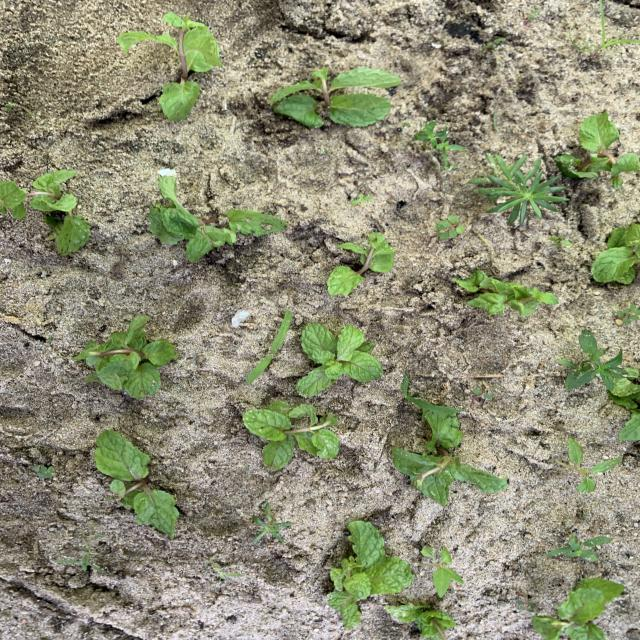crop: (393, 393, 506, 504), (147, 177, 287, 262), (118, 14, 220, 119), (328, 521, 413, 626), (96, 431, 179, 537), (75, 317, 177, 398), (0, 170, 91, 253), (270, 68, 399, 126), (244, 401, 339, 469), (556, 113, 639, 187), (298, 324, 382, 395), (532, 579, 623, 639), (454, 270, 557, 315), (328, 233, 394, 295), (592, 224, 639, 283), (386, 604, 455, 639), (611, 368, 640, 442)
weed: (470, 154, 564, 223), (558, 332, 623, 391), (555, 437, 623, 491), (248, 311, 291, 383), (421, 546, 463, 598), (415, 122, 462, 162), (548, 533, 610, 560), (254, 504, 293, 543), (54, 550, 101, 571), (204, 555, 243, 579), (437, 215, 464, 238), (615, 304, 639, 323), (483, 38, 506, 51), (517, 598, 536, 611), (33, 466, 55, 477), (350, 194, 371, 203), (550, 237, 571, 246), (526, 9, 540, 19)
